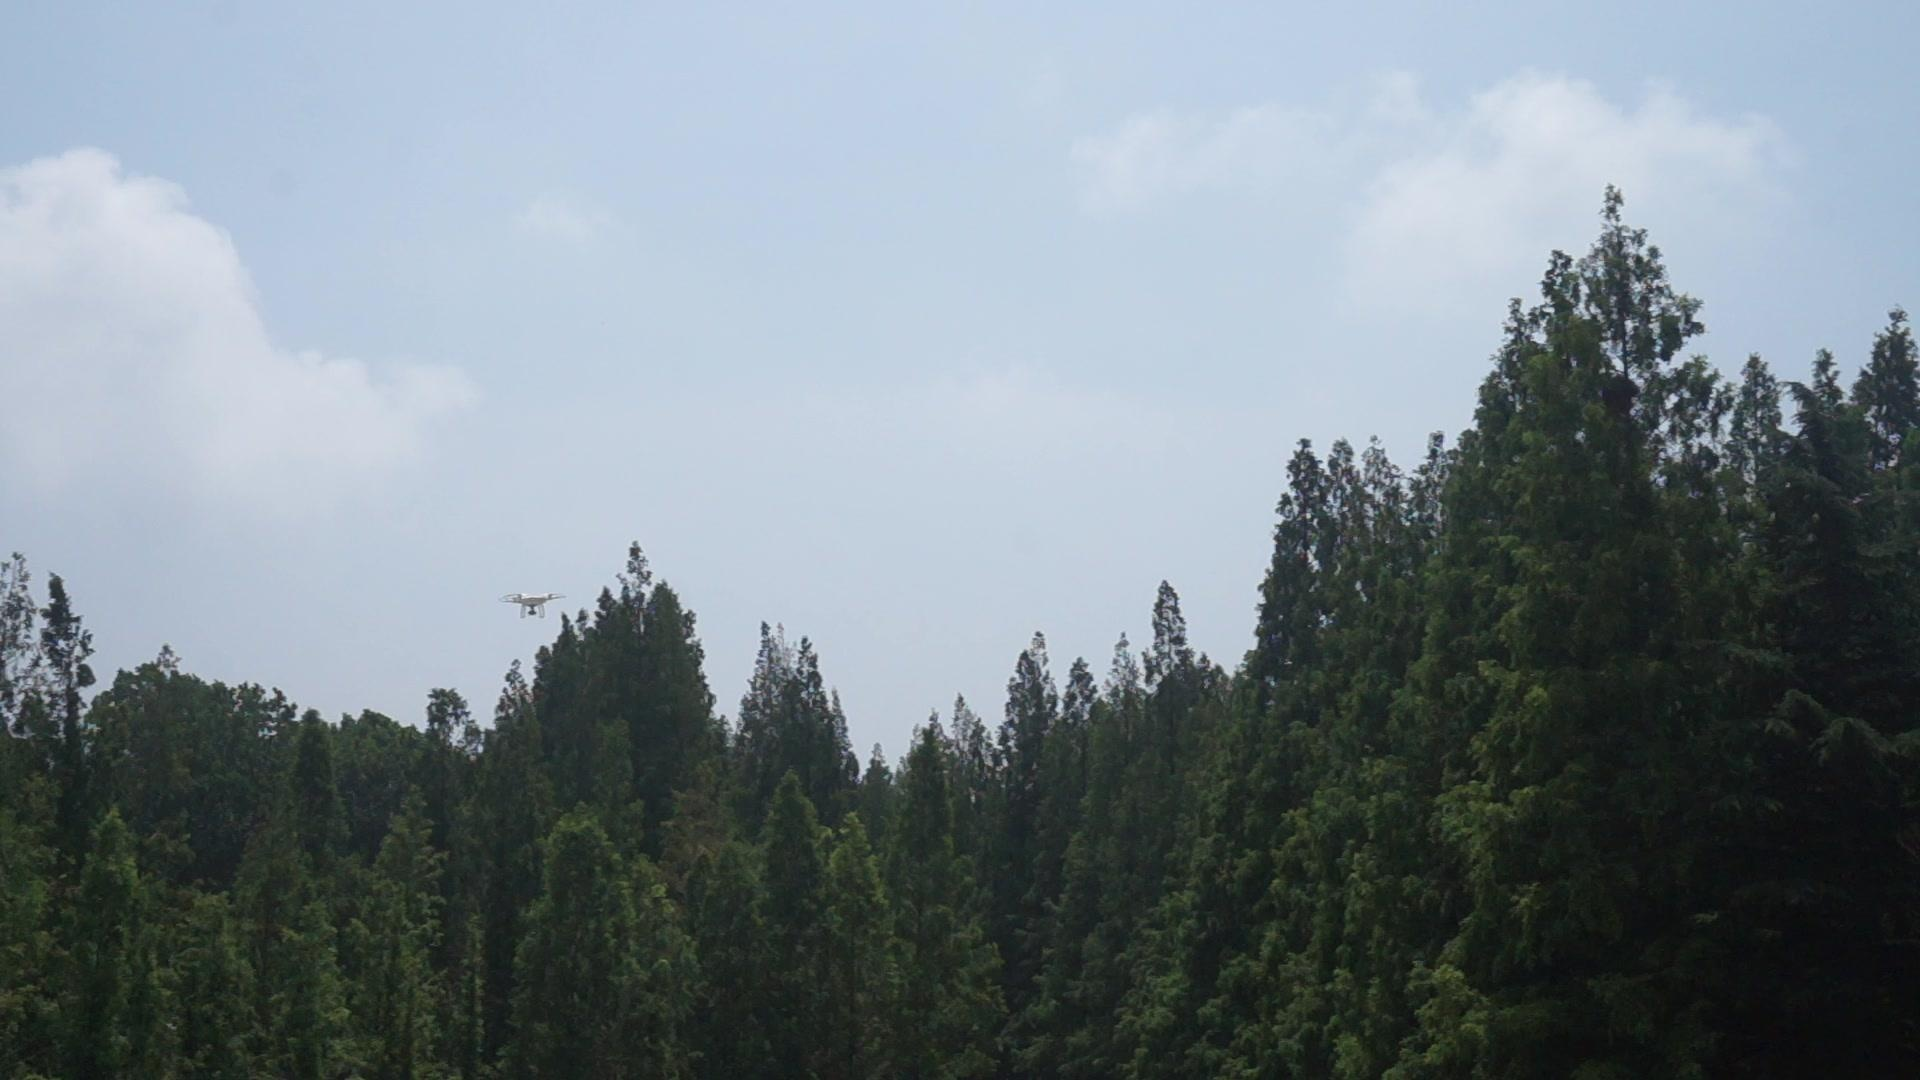UAV: (498, 593, 567, 620)
